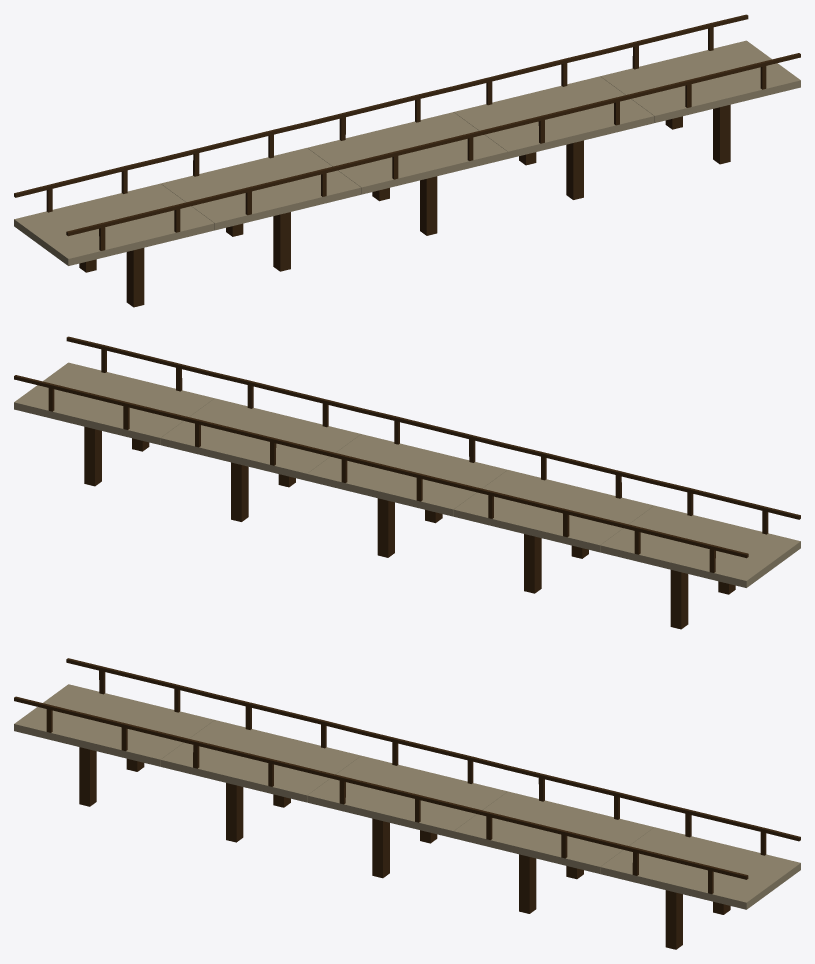
File: bridge.gltf
3 views of the same model, one above another, from view 1: azimuth 30°, elevation 25°; view 2: azimuth 150°, elevation 25°; view 3: azimuth 330°, elevation 25° (orthographic).
Parts seen in each view (by area): view 1: Cube; view 2: Cube; view 3: Cube.
Part boxes in pixels (x1,y1,x2,y2): Cube: (14,14,800,307); Cube: (14,336,800,629); Cube: (14,658,800,949).
Size of the model in its own units: 16.96 by 2 by 2.18.
